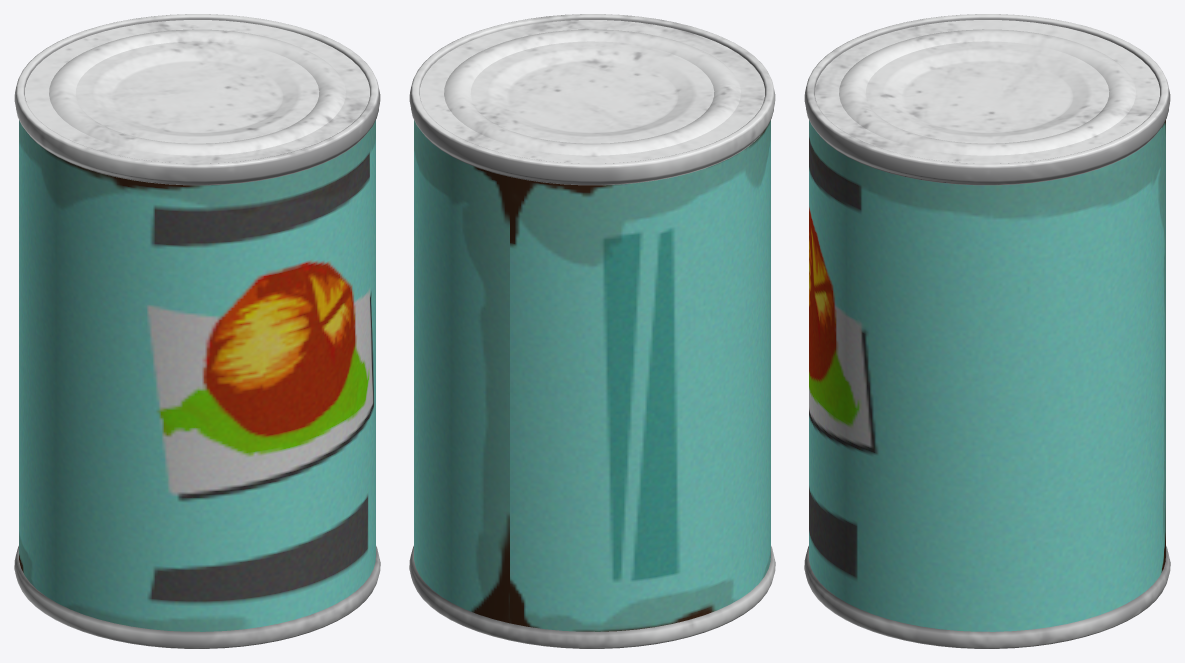
File: SM_FoodCan05.fbx
The picture shows the model from 3 angles, left to right: view 1: azimuth 30°, elevation 25°; view 2: azimuth 150°, elevation 25°; view 3: azimuth 270°, elevation 25°; orthographic projection.
Parts seen in each view (by area): view 1: SM_FoodCan05_LOD0; view 2: SM_FoodCan05_LOD0; view 3: SM_FoodCan05_LOD0.
Boxes of the visible parts, <box> form: SM_FoodCan05_LOD0: <box>14,14,380,648</box>; SM_FoodCan05_LOD0: <box>409,14,775,648</box>; SM_FoodCan05_LOD0: <box>804,14,1170,648</box>.
Bounding box in the file's own units: 10.32 × 10.32 × 15.16.
Materials: 1 (1 with a texture image).
